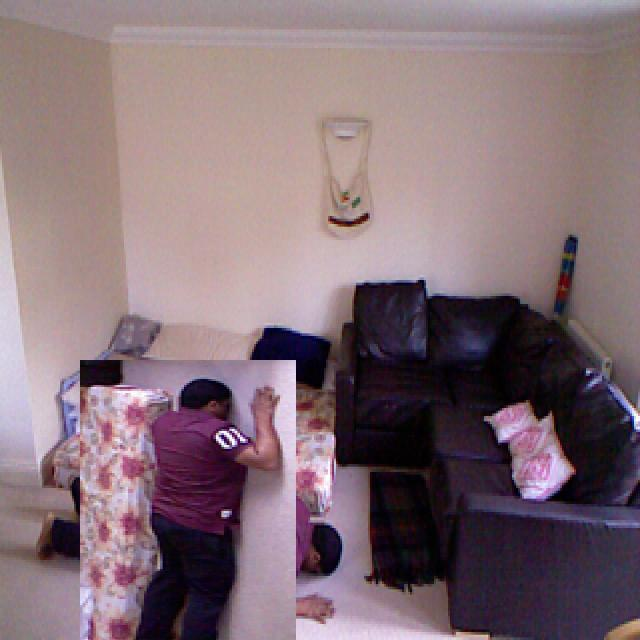Fall: (115, 356, 292, 635)
